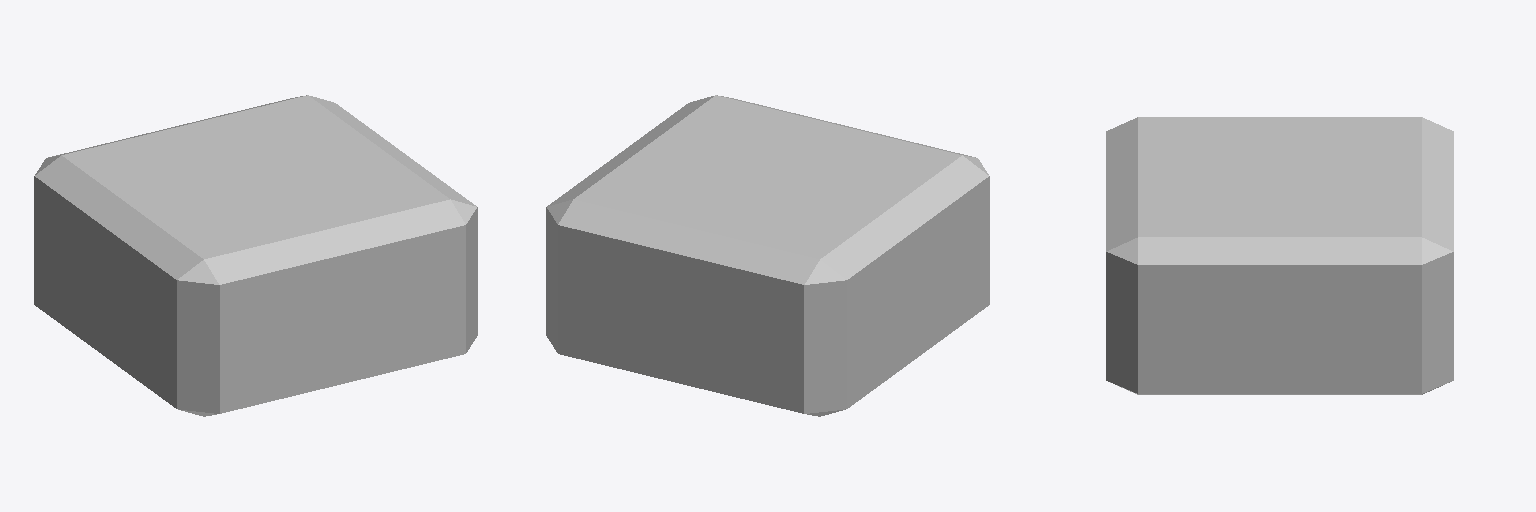
Rendered from platform.obj.
3 renders of one model, left to right at view 1: azimuth 30°, elevation 25°; view 2: azimuth 150°, elevation 25°; view 3: azimuth 270°, elevation 25°, orthographic.
Visible parts, largest first — view 1: Cube; view 2: Cube; view 3: Cube.
Boxes of the visible parts, x1=… form: Cube: x1=34, y1=95, x2=477, y2=416; Cube: x1=546, y1=95, x2=989, y2=416; Cube: x1=1106, y1=117, x2=1453, y2=394.
Size of the model in its own units: 4 by 2 by 4.